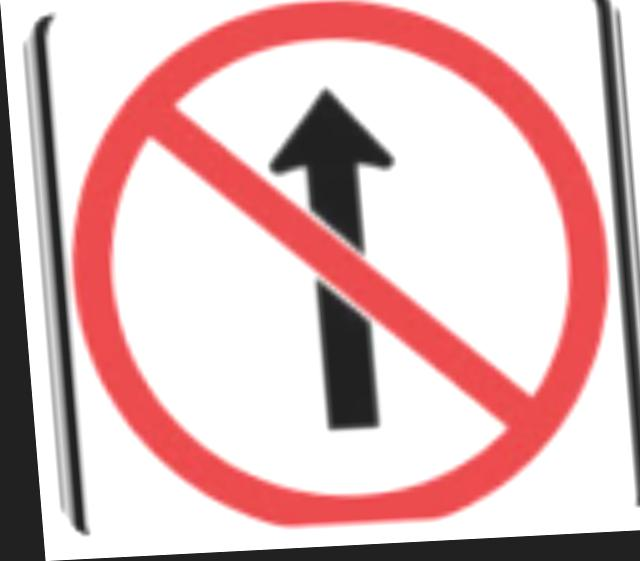not_go_straight: (51, 0, 620, 536)
